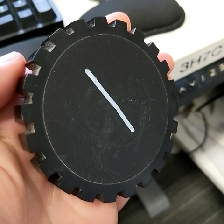gear: (12, 15, 180, 204)
